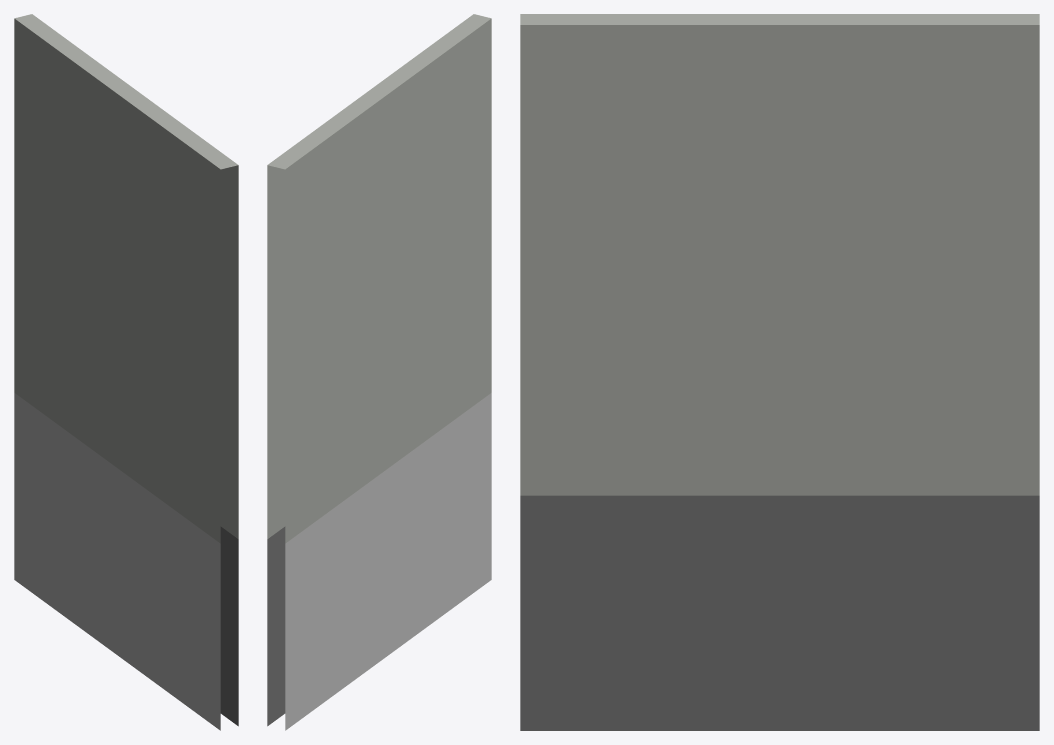
The model's file is SM_Wall_200.fbx.
3 views of the same model, side by side, from view 1: azimuth 30°, elevation 25°; view 2: azimuth 150°, elevation 25°; view 3: azimuth 270°, elevation 25° (orthographic). The views are drawn at different scales.
Parts seen in each view (by area): view 1: SM_Wall_200; view 2: SM_Wall_200; view 3: SM_Wall_200.
Part boxes in pixels (left/top/right/bottom): SM_Wall_200: left=14, top=14, right=238, bottom=730; SM_Wall_200: left=267, top=14, right=491, bottom=730; SM_Wall_200: left=520, top=14, right=1039, bottom=730.
Size of the model in its own units: 10 by 300 by 200.
